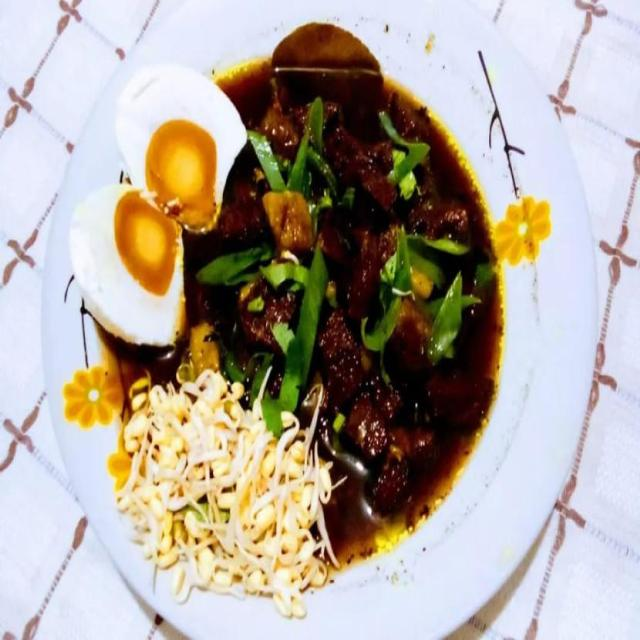Rawon: (97, 43, 480, 536)
